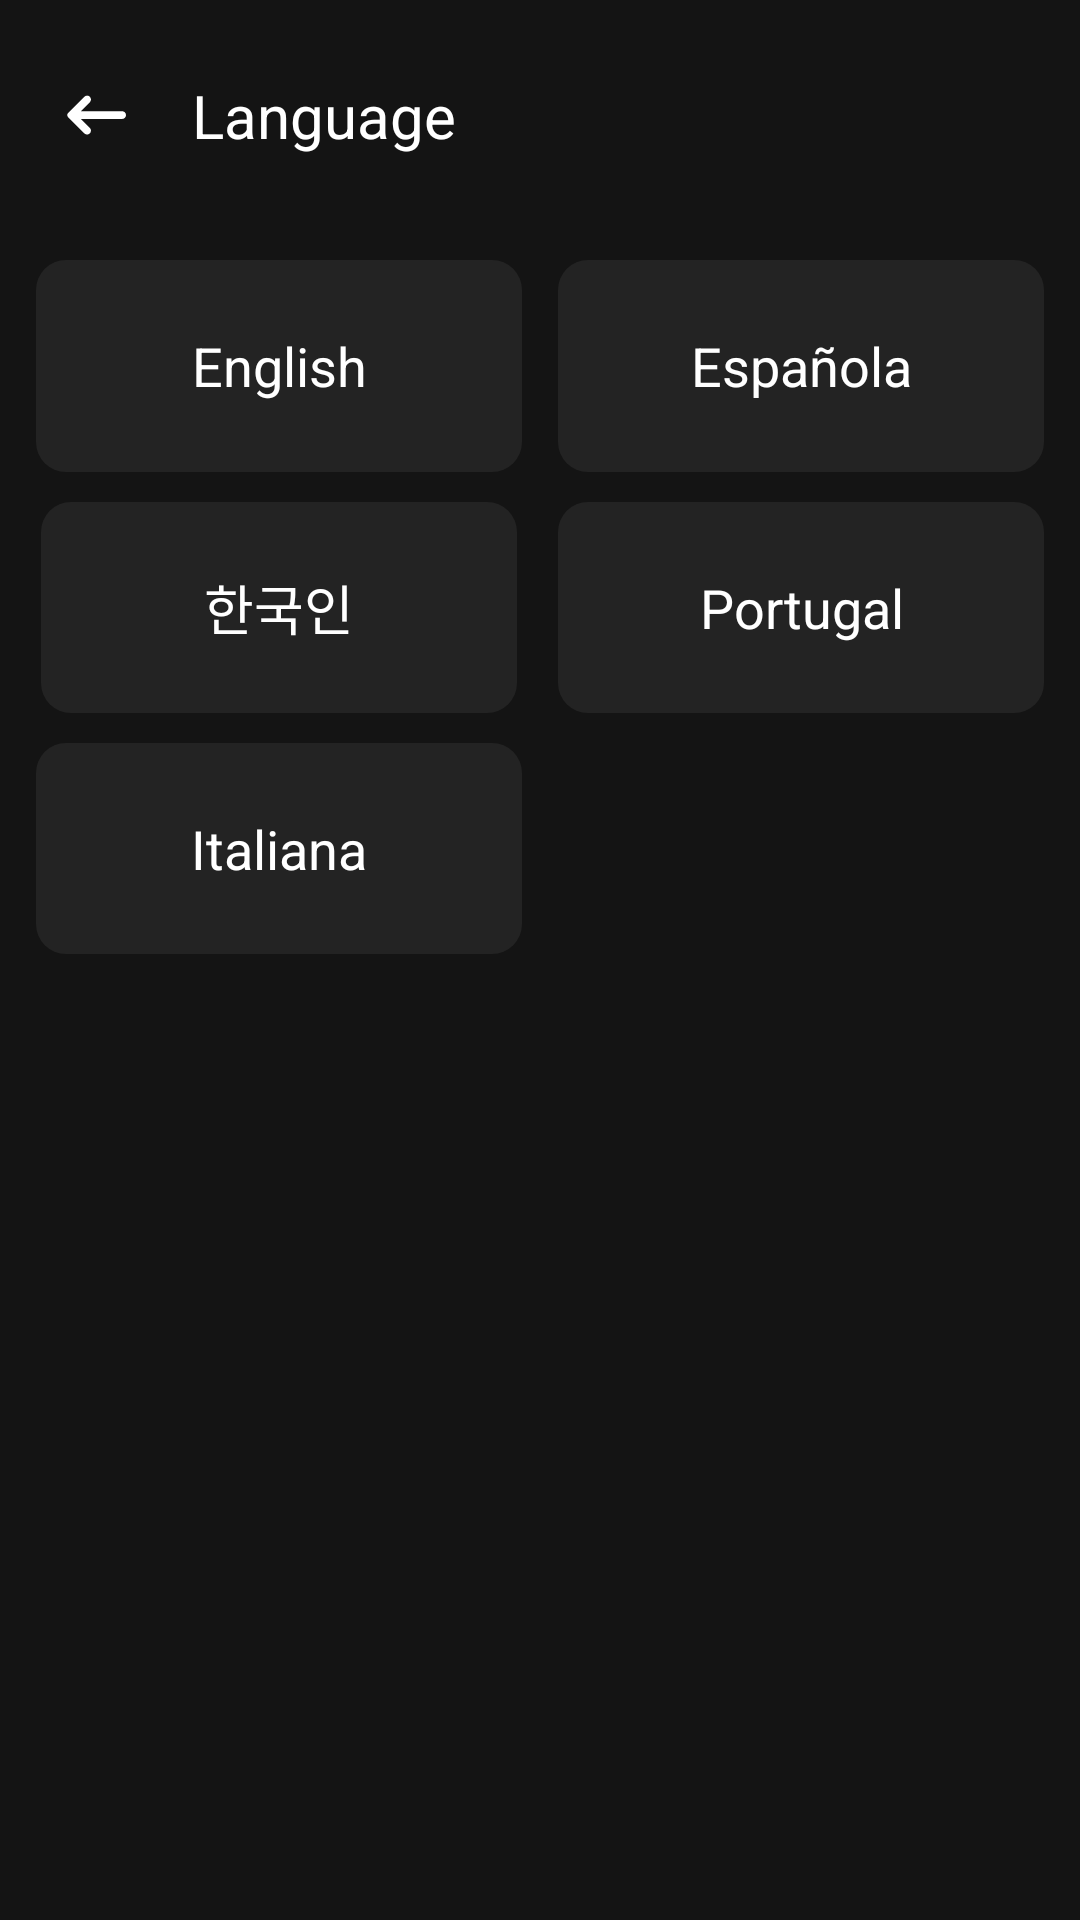

Icons on this 1080x1920 Android screen, each with the point to tap as (x,y):
back: (96,115)
